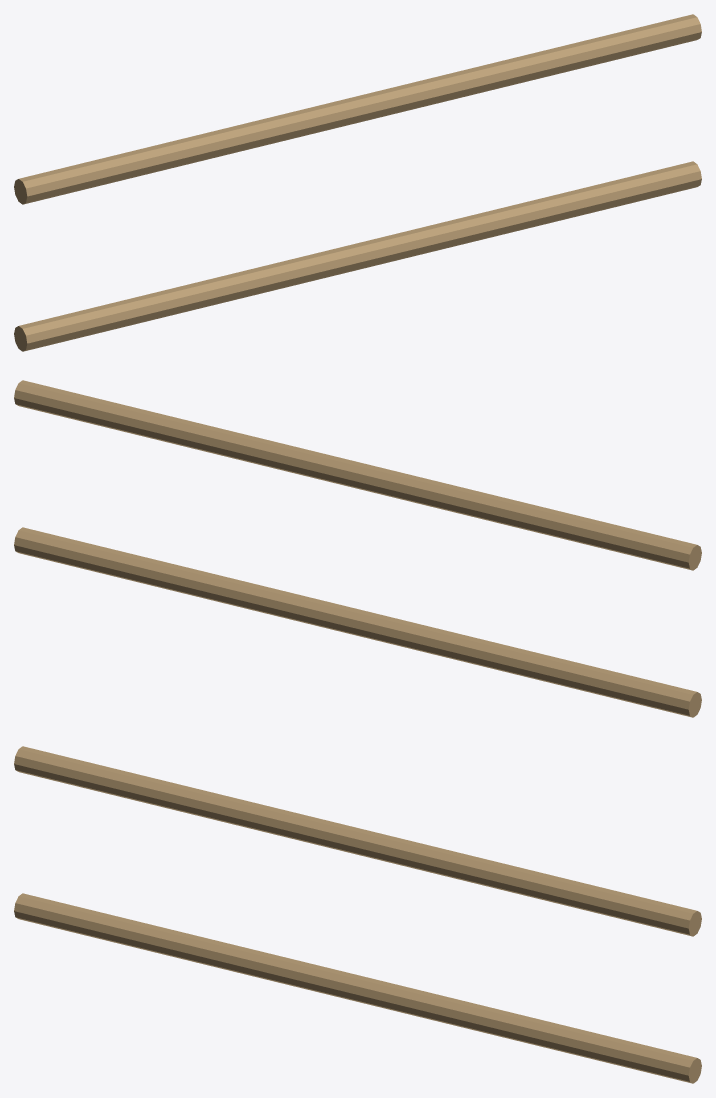
Rendered from FenceSection.glb.
3 views of the same model, one above another, from view 1: azimuth 30°, elevation 25°; view 2: azimuth 150°, elevation 25°; view 3: azimuth 330°, elevation 25° (orthographic).
Bounding box in the file's own units: 2.64 × 0.6355 × 0.0901.
